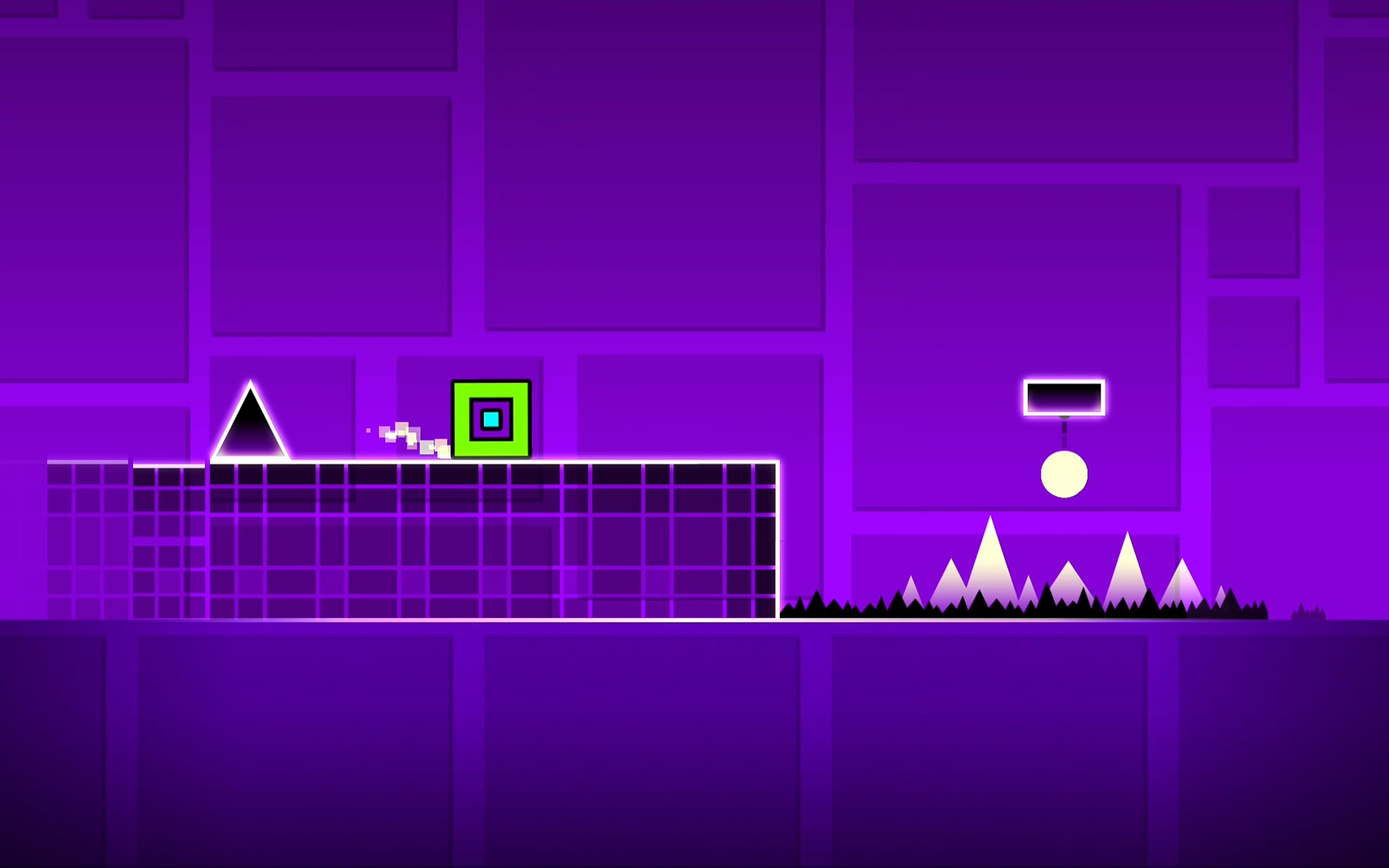Block2: (29, 460, 773, 612)
Block3: (1022, 378, 1105, 415)
Player: (449, 380, 531, 457)
Spike: (211, 381, 288, 460)
Spike3: (776, 584, 1311, 622)
